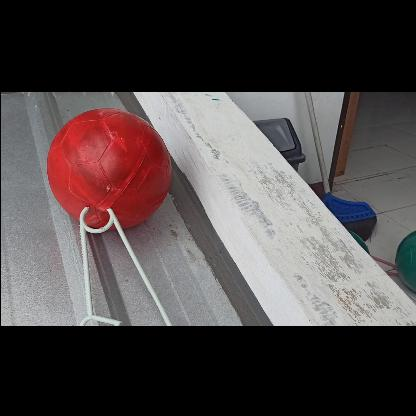red_ball: (44, 106, 169, 230)
